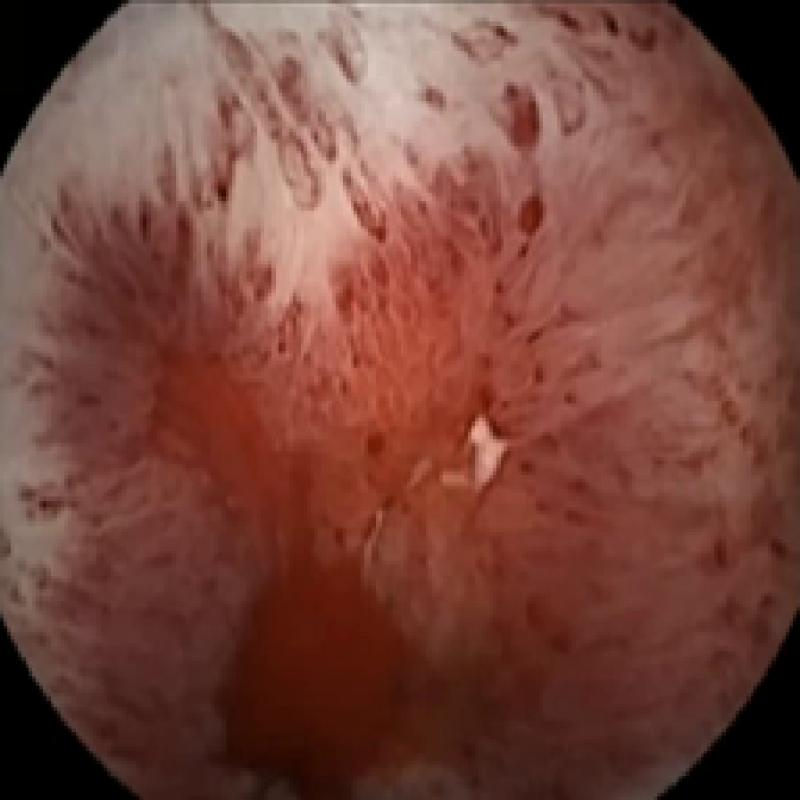bleeding: (36, 89, 604, 800)
